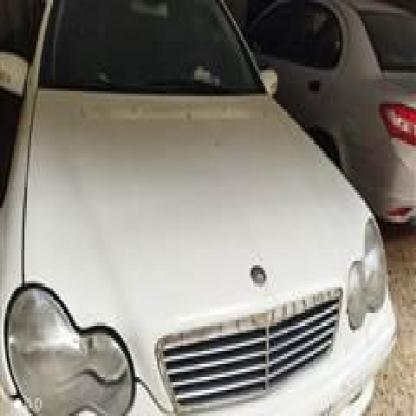Car: (0, 0, 397, 416), (237, 0, 415, 270)
